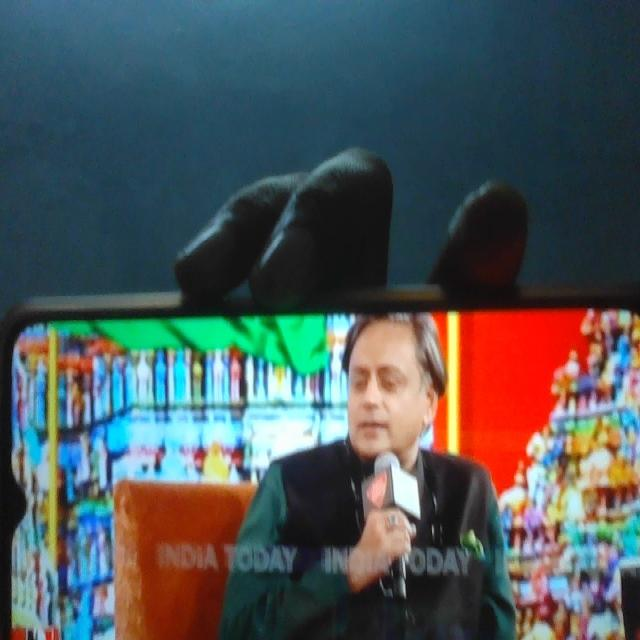fake: (332, 278, 442, 486)
